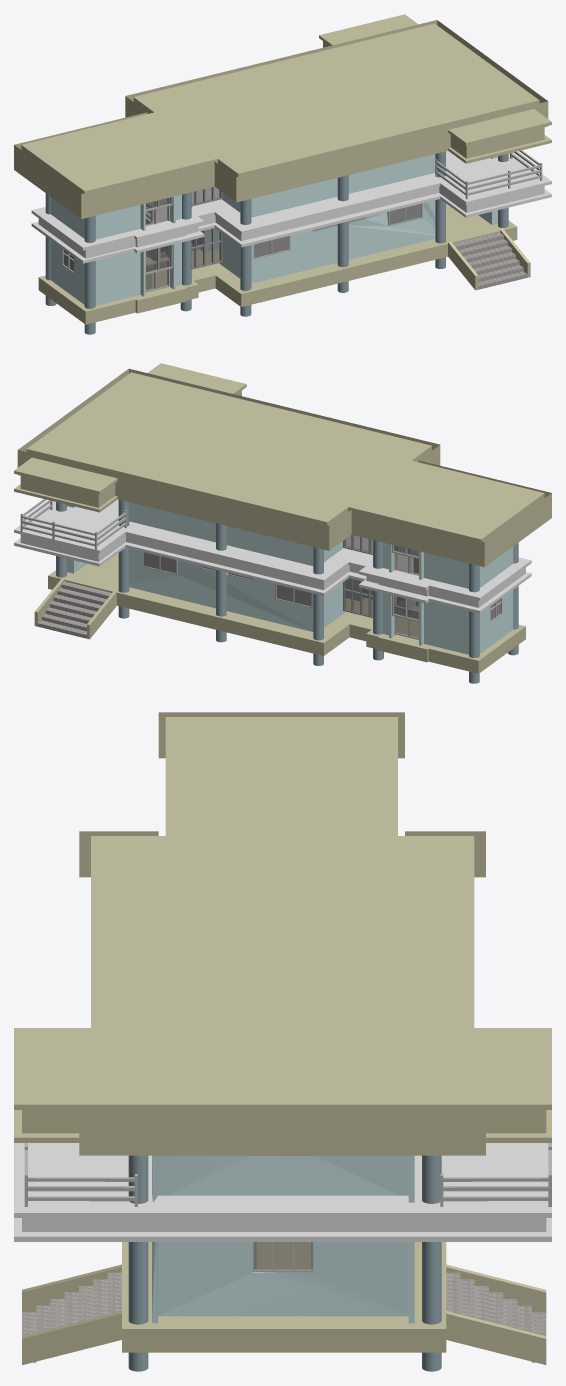
File: LHL3_Baked.fbx
The picture shows the model from 3 angles, top to bottom: view 1: azimuth 30°, elevation 25°; view 2: azimuth 150°, elevation 25°; view 3: azimuth 270°, elevation 25°; orthographic projection. The views are drawn at different scales.
Parts seen in each view (by area): view 1: obj14, obj9, obj1, obj8, obj4, obj7, obj6, obj12, obj10, obj11, obj5; view 2: obj14, obj9, obj1, obj8, obj4, obj7, obj12, obj6, obj10, obj11, obj5; view 3: obj14, obj1, obj8, obj9, obj11, obj12, obj4, obj7, obj6.
Part boxes in pixels (x1=…): obj14: x1=14, y1=20, x2=548, y2=218; obj9: x1=51, y1=154, x2=497, y2=305; obj1: x1=31, y1=151, x2=551, y2=263; obj8: x1=38, y1=14, x2=551, y2=324; obj4: x1=45, y1=151, x2=508, y2=334; obj7: x1=62, y1=150, x2=542, y2=292; obj6: x1=145, y1=187, x2=220, y2=290; obj12: x1=453, y1=232, x2=527, y2=289; obj10: x1=63, y1=203, x2=421, y2=271; obj11: x1=448, y1=229, x2=530, y2=290; obj5: x1=160, y1=187, x2=222, y2=269; obj14: x1=17, y1=368, x2=551, y2=567; obj9: x1=67, y1=502, x2=513, y2=654; obj1: x1=14, y1=499, x2=531, y2=613; obj8: x1=14, y1=363, x2=525, y2=673; obj4: x1=56, y1=499, x2=518, y2=683; obj7: x1=20, y1=499, x2=502, y2=639; obj12: x1=37, y1=581, x2=111, y2=638; obj6: x1=344, y1=535, x2=418, y2=637; obj10: x1=144, y1=552, x2=500, y2=620; obj11: x1=34, y1=578, x2=116, y2=639; obj5: x1=343, y1=535, x2=403, y2=617; obj14: x1=79, y1=712, x2=485, y2=1155; obj1: x1=14, y1=1143, x2=551, y2=1241; obj8: x1=14, y1=1028, x2=551, y2=1352; obj9: x1=152, y1=1155, x2=414, y2=1323; obj11: x1=22, y1=1264, x2=546, y2=1364; obj12: x1=22, y1=1272, x2=546, y2=1362; obj4: x1=128, y1=1155, x2=441, y2=1371; obj7: x1=24, y1=1143, x2=551, y2=1272; obj6: x1=254, y1=1242, x2=312, y2=1269.
Size of the model in its own units: 2365 by 881 by 1353.
Materials: 11 (2 with a texture image).
